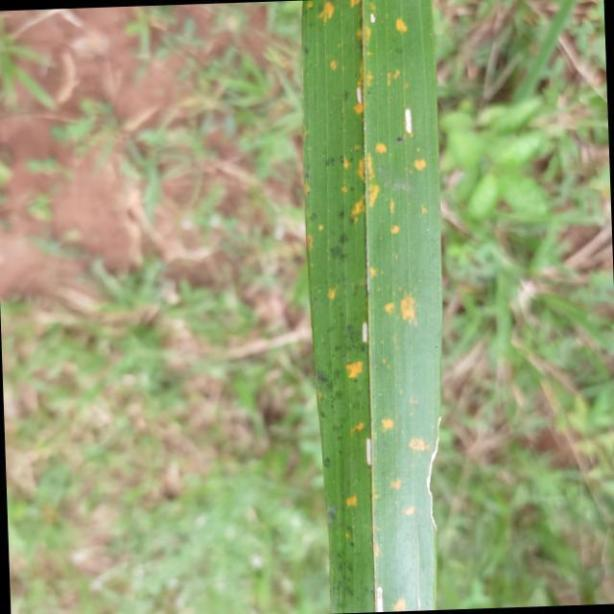Kalium: (302, 0, 443, 614)
